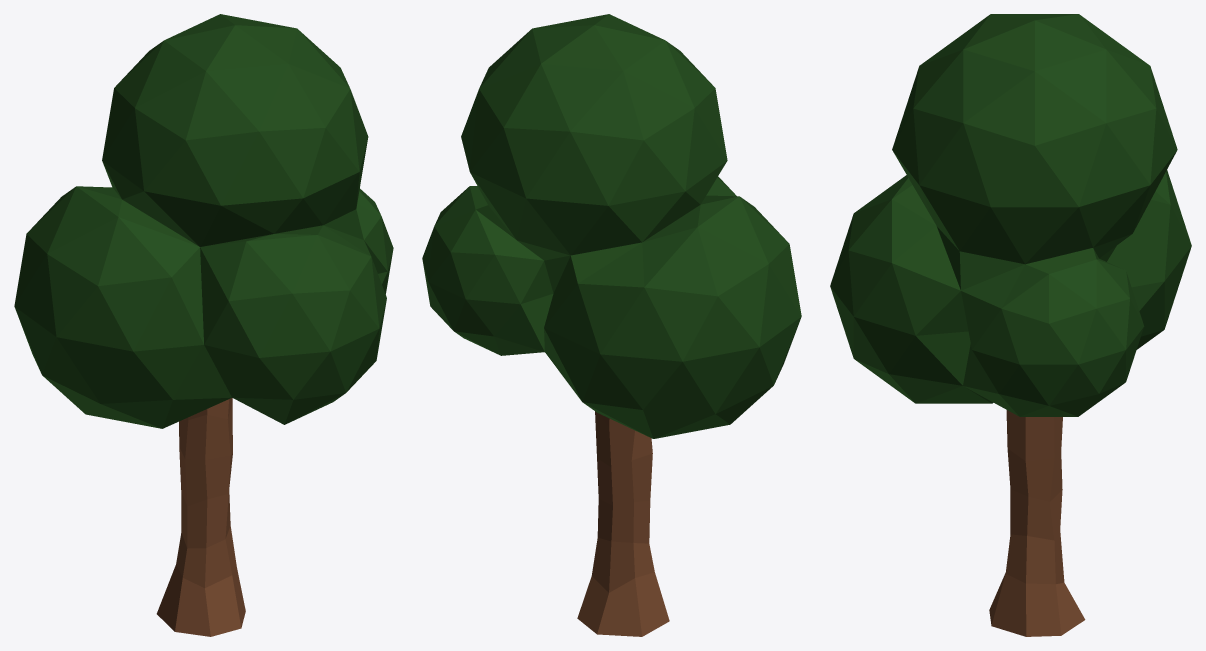
Rendered from Tree6.obj.
3 renders of one model, left to right at view 1: azimuth 30°, elevation 25°; view 2: azimuth 150°, elevation 25°; view 3: azimuth 270°, elevation 25°, orthographic. The views are drawn at different scales.
Visible parts, largest first — view 1: drzewo.011; view 2: drzewo.011; view 3: drzewo.011.
Boxes of the visible parts, x1,y1,x2,y2 form: drzewo.011: (14, 14, 393, 636); drzewo.011: (422, 14, 801, 636); drzewo.011: (830, 14, 1191, 636).
Bounding box in the file's own units: 4.38 × 7.11 × 3.8.
